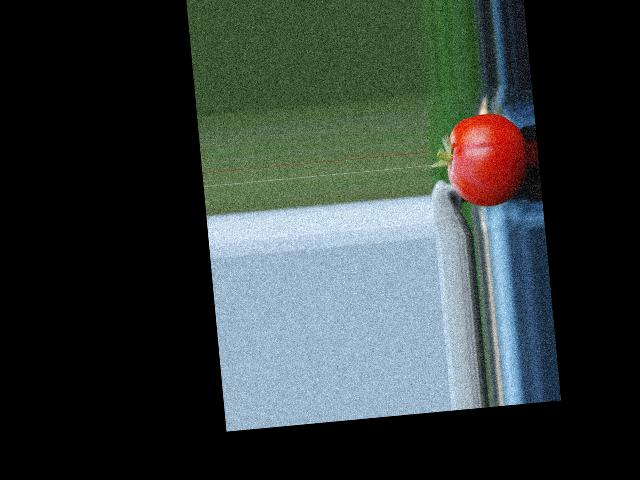tomato: (442, 110, 531, 209)
